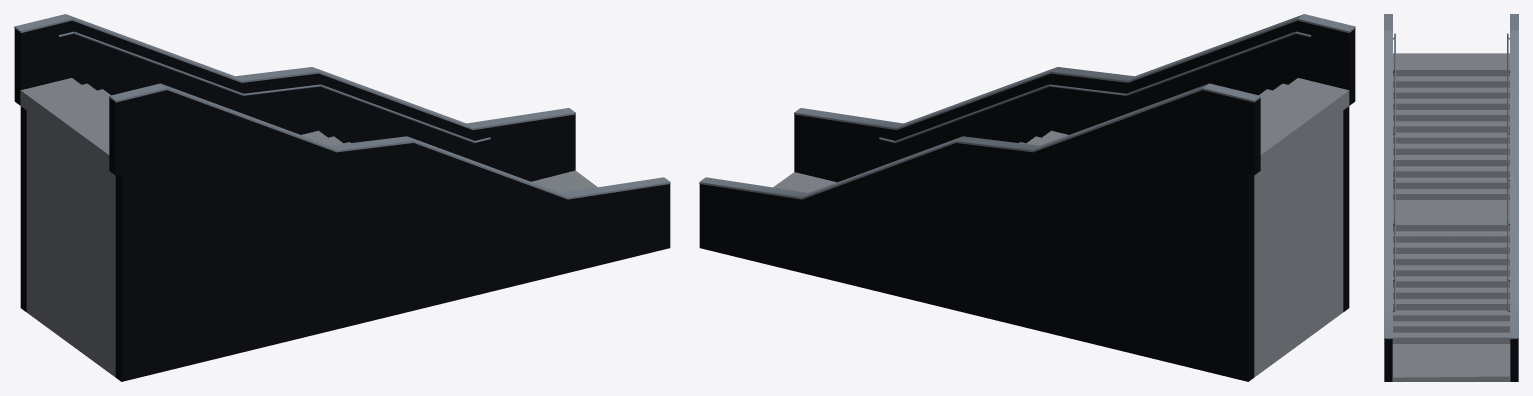
File: tt_struct_stair_e.glb
3 views of the same model, side by side, from view 1: azimuth 30°, elevation 25°; view 2: azimuth 150°, elevation 25°; view 3: azimuth 270°, elevation 25° (orthographic). The views are drawn at different scales.
Visible parts, largest first — view 1: Cheek_Walls, Stair_Body, Cheek_Caps, Handrail; view 2: Cheek_Walls, Stair_Body, Cheek_Caps, Handrail; view 3: Stair_Body, Cheek_Caps, Handrail, Nosing_Court_Line, Cheek_Walls.
Part boxes in pixels (x1,y1,x2,y2): Cheek_Walls: [14, 20, 670, 381]; Stair_Body: [20, 78, 597, 377]; Cheek_Caps: [14, 14, 670, 199]; Handrail: [58, 31, 490, 143]; Cheek_Walls: [699, 20, 1355, 381]; Stair_Body: [773, 78, 1349, 377]; Cheek_Caps: [699, 14, 1355, 199]; Handrail: [879, 31, 1311, 143]; Stair_Body: [1392, 53, 1510, 381]; Cheek_Caps: [1384, 14, 1518, 339]; Handrail: [1394, 33, 1508, 311]; Nosing_Court_Line: [1394, 99, 1508, 333]; Cheek_Walls: [1384, 339, 1518, 381].
Size of what is drawn, in the model's own units: 10.8 by 5.26 by 3.42.
6 materials, 5 textured.
